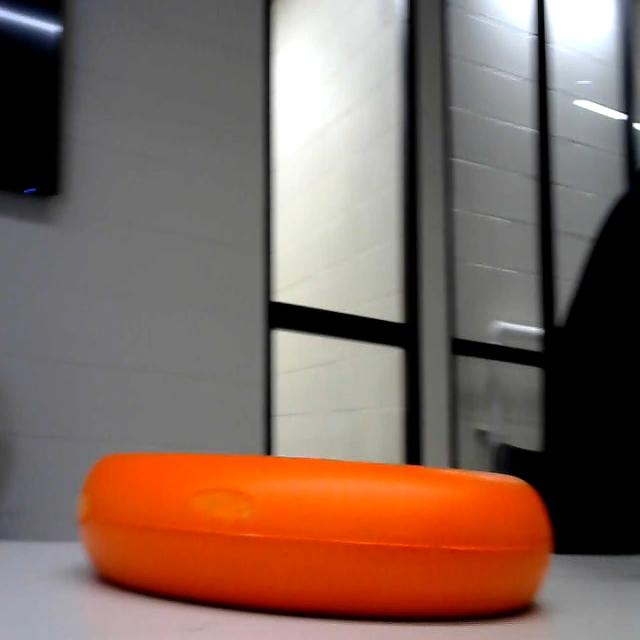note: (82, 445, 564, 632)
